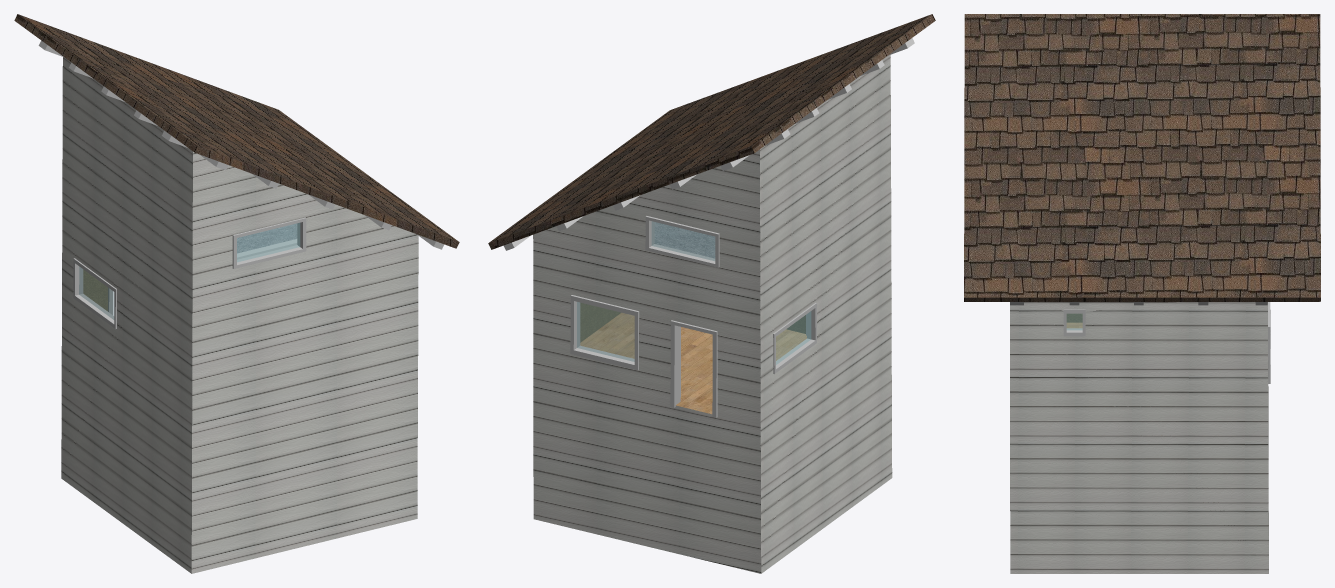
File: rehouse.gltf
3 views of the same model, side by side, from view 1: azimuth 30°, elevation 25°; view 2: azimuth 150°, elevation 25°; view 3: azimuth 270°, elevation 25° (orthographic).
Parts seen in each view (by area): view 1: Cube.002; view 2: Cube.002; view 3: Cube.002.
Part boxes in pixels (x1,y1,x2,y2): Cube.002: (14,14,459,573); Cube.002: (488,14,935,573); Cube.002: (964,14,1320,573).
Bounding box in the file's own units: 6.18 × 9.91 × 7.24.
